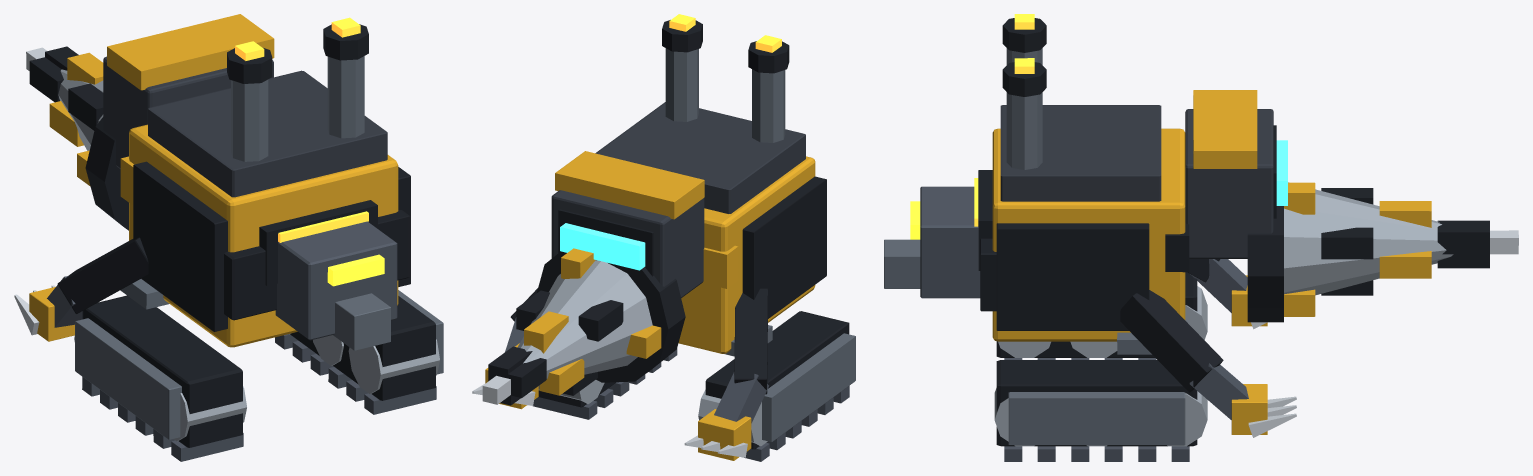
Rendered from drilla.glb.
The picture shows the model from 3 angles, left to right: view 1: azimuth 30°, elevation 25°; view 2: azimuth 150°, elevation 25°; view 3: azimuth 270°, elevation 25°; orthographic projection. The views are drawn at different scales.
Parts seen in each view (by area): view 1: body, head, leg.FR, tail, leg.FL, arm.R; view 2: head, body, leg.FR, arm.R, leg.FL, arm.L; view 3: body, head, leg.FL, arm.L, tail, leg.FR, arm.R.
Boxes of the visible parts, left/top/right/bottom form: body: left=120, top=17, right=410, bottom=347; head: left=26, top=14, right=274, bottom=230; leg.FR: left=74, top=295, right=246, bottom=461; tail: left=275, top=221, right=397, bottom=350; leg.FL: left=275, top=290, right=443, bottom=414; arm.R: left=14, top=237, right=148, bottom=341; head: left=482, top=151, right=704, bottom=405; body: left=595, top=14, right=826, bottom=356; leg.FR: left=698, top=311, right=855, bottom=461; arm.R: left=684, top=288, right=768, bottom=460; leg.FL: left=533, top=348, right=677, bottom=419; arm.L: left=472, top=288, right=538, bottom=409; body: left=974, top=14, right=1189, bottom=354; head: left=1185, top=90, right=1518, bottom=322; leg.FL: left=994, top=360, right=1207, bottom=461; arm.L: left=1120, top=290, right=1296, bottom=437; tail: left=884, top=186, right=980, bottom=298; leg.FR: left=996, top=272, right=1207, bottom=359; arm.R: left=1188, top=259, right=1267, bottom=329.
Size of the model in its own units: 0.7796 by 1 by 1.58.
